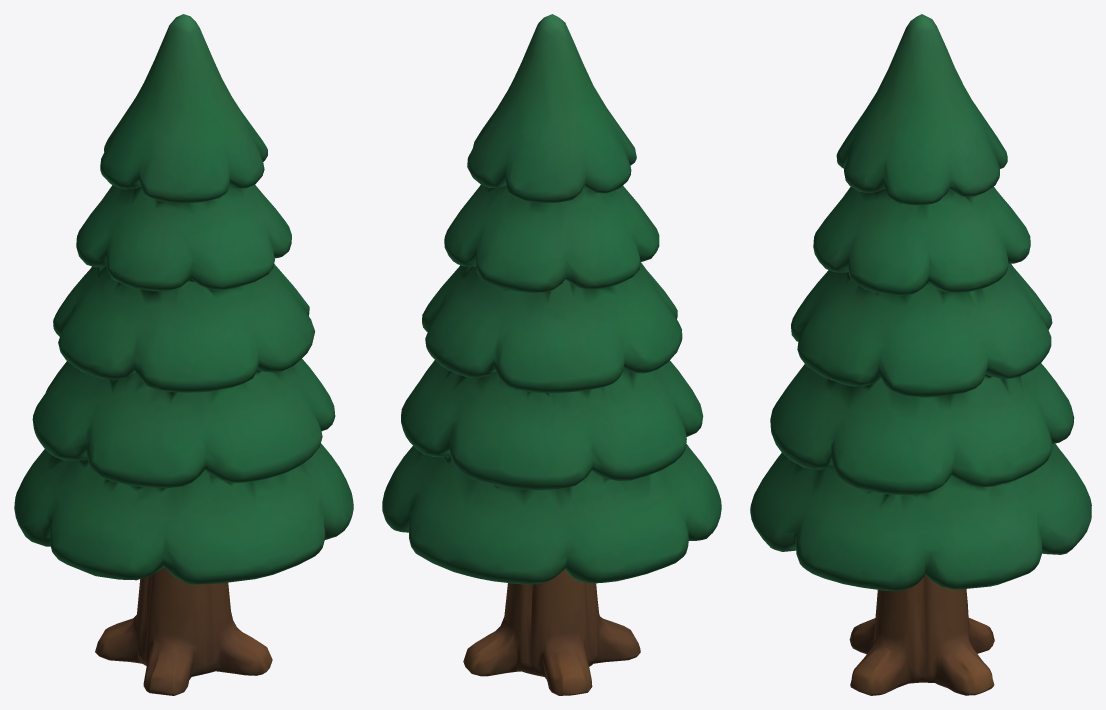
Rendered from pro_pine-BDXbSByV.glb.
The picture shows the model from 3 angles, left to right: view 1: azimuth 30°, elevation 25°; view 2: azimuth 150°, elevation 25°; view 3: azimuth 270°, elevation 25°; orthographic projection.
Visible parts, largest first — view 1: tripo_node_c58e7271-0bb9-4d34-bd1c-eb543a335f76; view 2: tripo_node_c58e7271-0bb9-4d34-bd1c-eb543a335f76; view 3: tripo_node_c58e7271-0bb9-4d34-bd1c-eb543a335f76.
Part boxes in pixels (x1,y1,x2,y2): tripo_node_c58e7271-0bb9-4d34-bd1c-eb543a335f76: (14,14,353,695); tripo_node_c58e7271-0bb9-4d34-bd1c-eb543a335f76: (382,14,721,695); tripo_node_c58e7271-0bb9-4d34-bd1c-eb543a335f76: (750,14,1091,695).
Bounding box in the file's own units: 0.4708 × 1 × 0.4741.
1 material, 1 textured.
